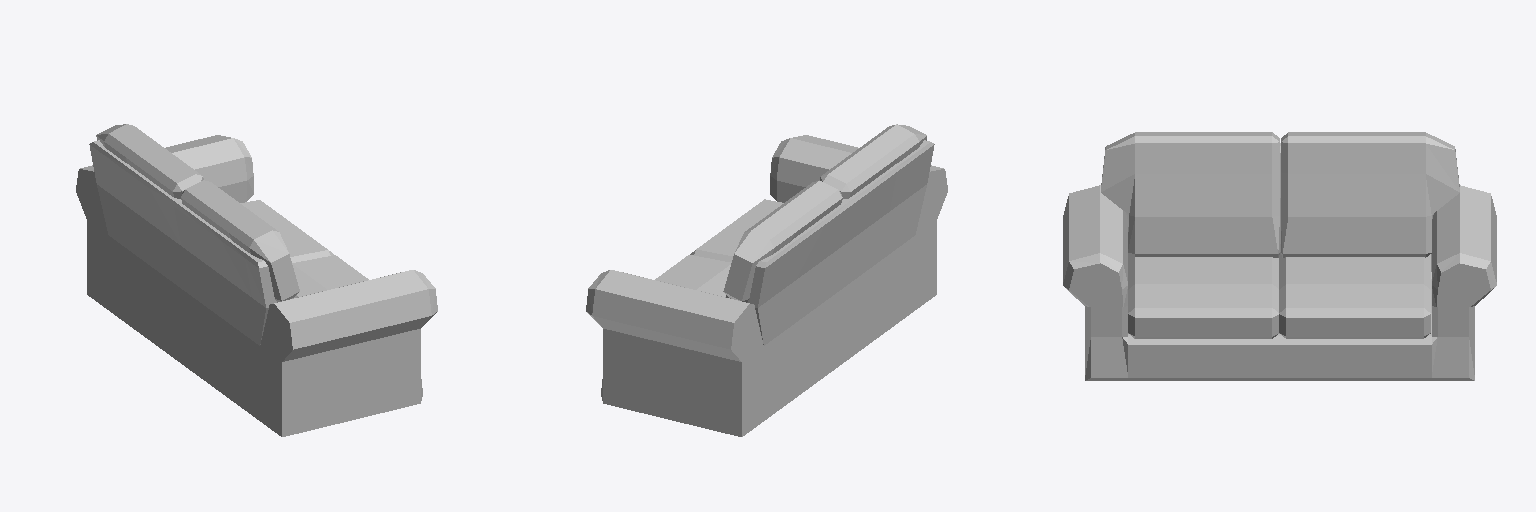
File: sofa_original.obj
The picture shows the model from 3 angles: view 1: azimuth 30°, elevation 25°; view 2: azimuth 150°, elevation 25°; view 3: azimuth 270°, elevation 25°; orthographic projection.
Parts seen in each view (by area): view 1: sofa; view 2: sofa; view 3: sofa.
Part boxes in pixels (left/top/right/bottom): sofa: left=76, top=124, right=437, bottom=436; sofa: left=586, top=124, right=947, bottom=436; sofa: left=1063, top=132, right=1496, bottom=380.
Bounding box in the file's own units: 7.25 × 7.79 × 16.6.